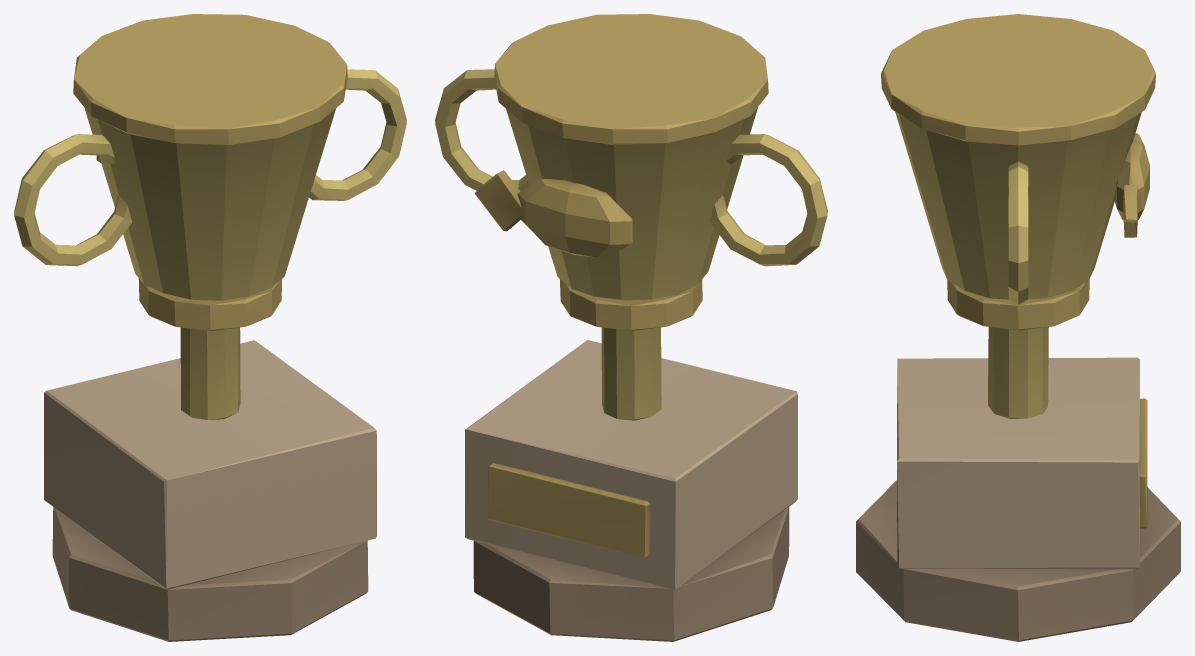
Rendered from event_trophy_fish_gold_low.glb.
3 renders of one model, left to right at view 1: azimuth 30°, elevation 25°; view 2: azimuth 150°, elevation 25°; view 3: azimuth 270°, elevation 25°, orthographic.
Bounding box in the file's own units: 0.4423 × 0.545 × 0.3186.
